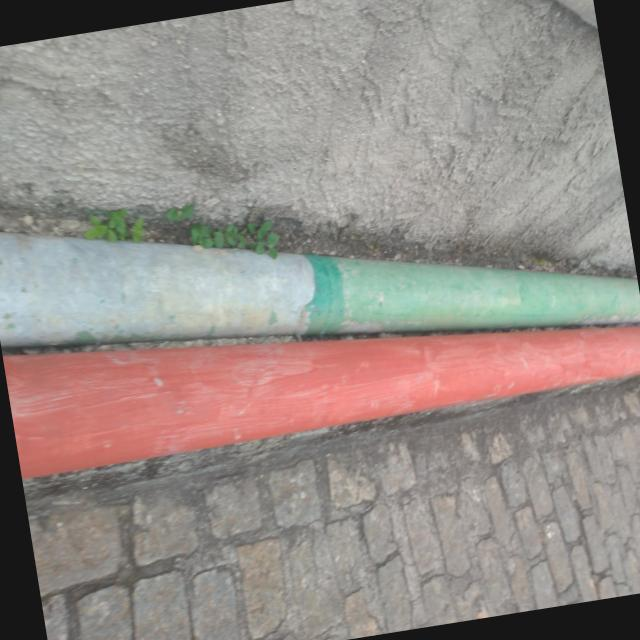gas: (0, 123, 640, 419), (1, 253, 640, 486)
